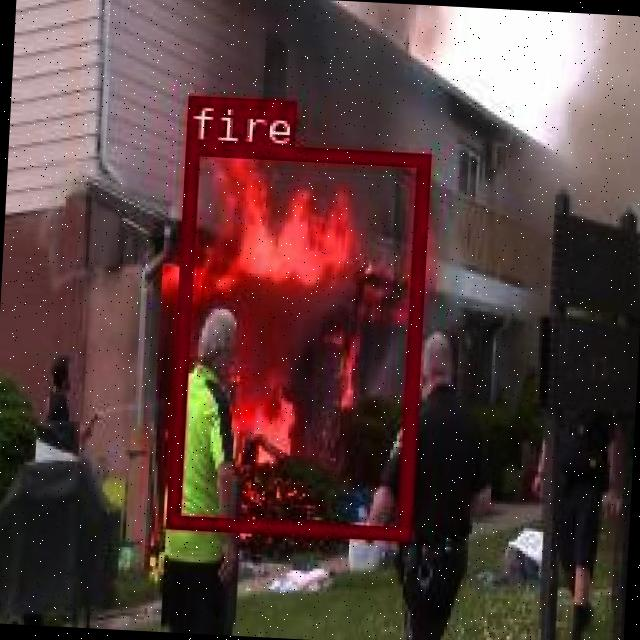fire: (165, 140, 428, 538)
